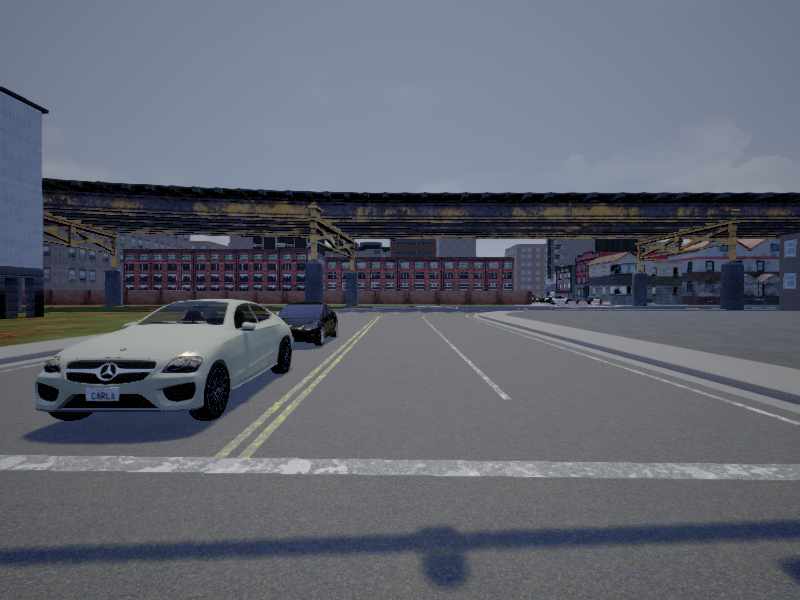Benign: (34, 296, 293, 420), (277, 302, 337, 346)
